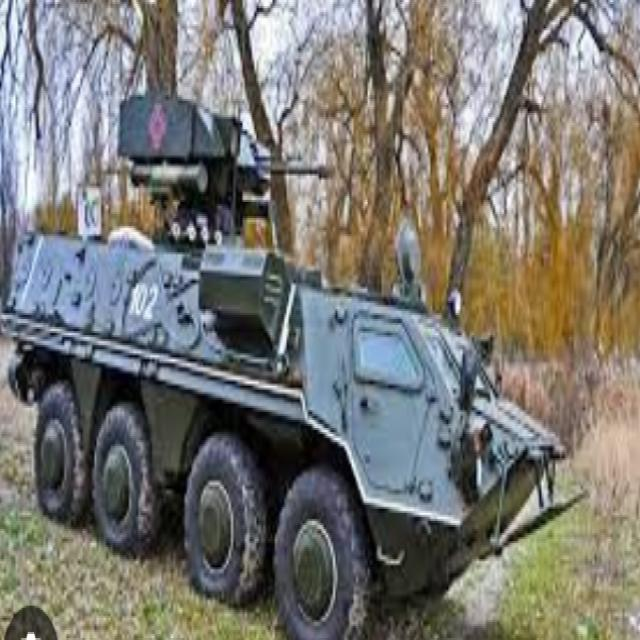MIL_APC: (4, 94, 563, 624)
